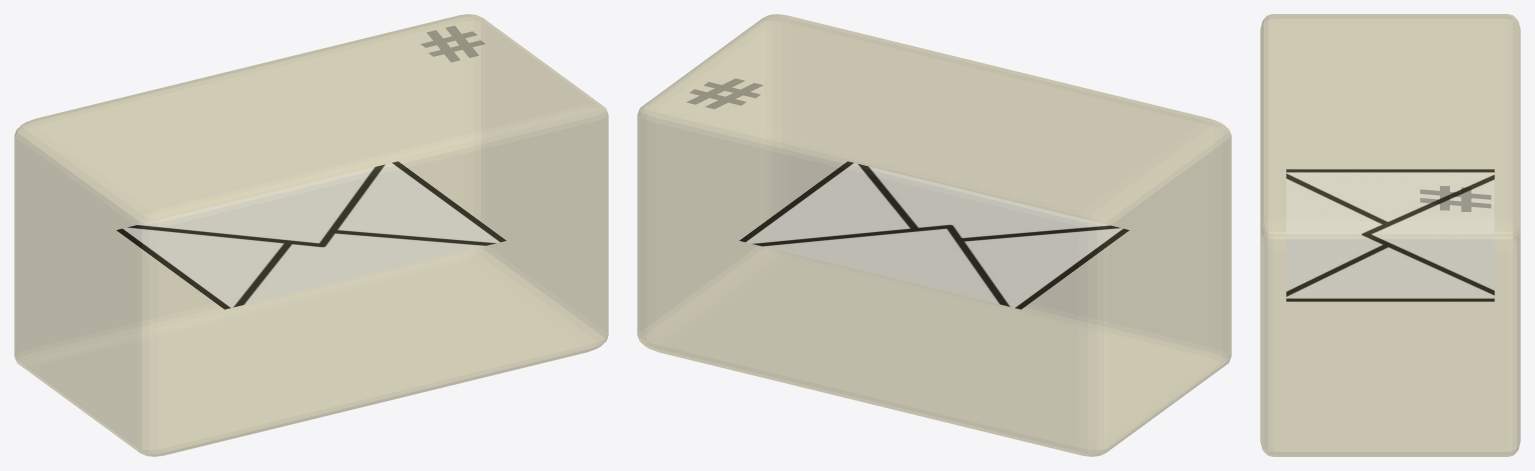
Rendered from TEST_Message_Hashtag.dae.
3 renders of one model, left to right at view 1: azimuth 30°, elevation 25°; view 2: azimuth 150°, elevation 25°; view 3: azimuth 270°, elevation 25°, orthographic. The views are drawn at different scales.
Parts seen in each view (by area): view 1: Cube, Plane, Plane_002; view 2: Cube, Plane, Plane_002; view 3: Cube, Plane, Plane_002.
Boxes of the visible parts, left/top/right/bottom form: Cube: left=14, top=14, right=608, bottom=456; Plane: left=116, top=161, right=506, bottom=309; Plane_002: left=421, top=26, right=484, bottom=61; Cube: left=637, top=14, right=1231, bottom=456; Plane: left=739, top=161, right=1129, bottom=309; Plane_002: left=687, top=79, right=762, bottom=108; Cube: left=1260, top=14, right=1520, bottom=456; Plane: left=1286, top=169, right=1494, bottom=301; Plane_002: left=1420, top=186, right=1490, bottom=211.
Size of the model in its own units: 2 by 1 by 1.
Materials: 3 (2 with a texture image).
